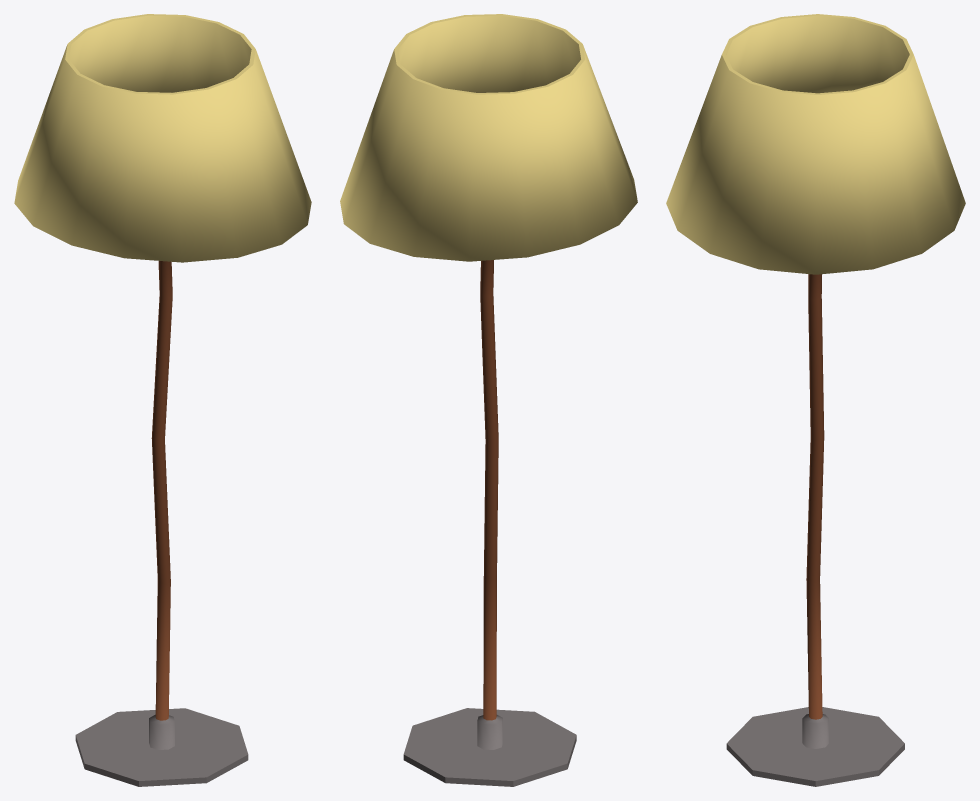
Rendered from Lampara de pie.fbx.
3 renders of one model, left to right at view 1: azimuth 30°, elevation 25°; view 2: azimuth 150°, elevation 25°; view 3: azimuth 270°, elevation 25°, orthographic.
Visible parts, largest first — view 1: Sphere.002; view 2: Sphere.002; view 3: Sphere.002.
Part boxes in pixels (x1=…): Sphere.002: x1=14, y1=14, x2=311, y2=786; Sphere.002: x1=340, y1=14, x2=637, y2=786; Sphere.002: x1=666, y1=14, x2=965, y2=786.
Size of the model in its own units: 57.21 by 146 by 57.31.
